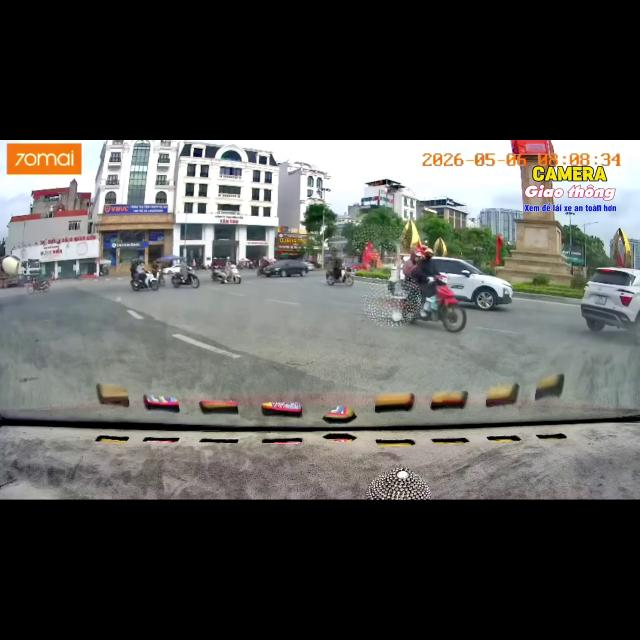car: (581, 268, 639, 342), (432, 257, 512, 310), (263, 260, 308, 276), (163, 264, 180, 274), (304, 261, 315, 270)
motorcycle: (401, 276, 466, 332), (171, 268, 199, 288), (130, 272, 159, 291), (211, 265, 241, 283), (326, 268, 353, 286), (27, 278, 50, 293), (211, 268, 226, 283), (155, 269, 165, 285), (99, 265, 109, 276)
